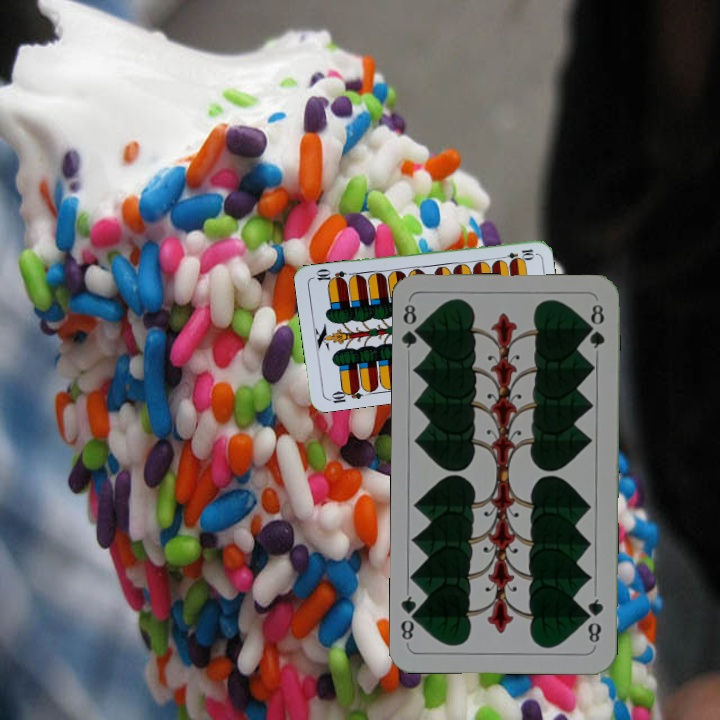E10: (324, 383, 365, 406), (496, 245, 537, 263)
G8: (399, 301, 426, 351), (582, 594, 606, 645)
